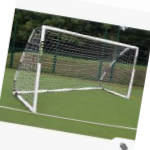goals: (10, 23, 139, 117)
